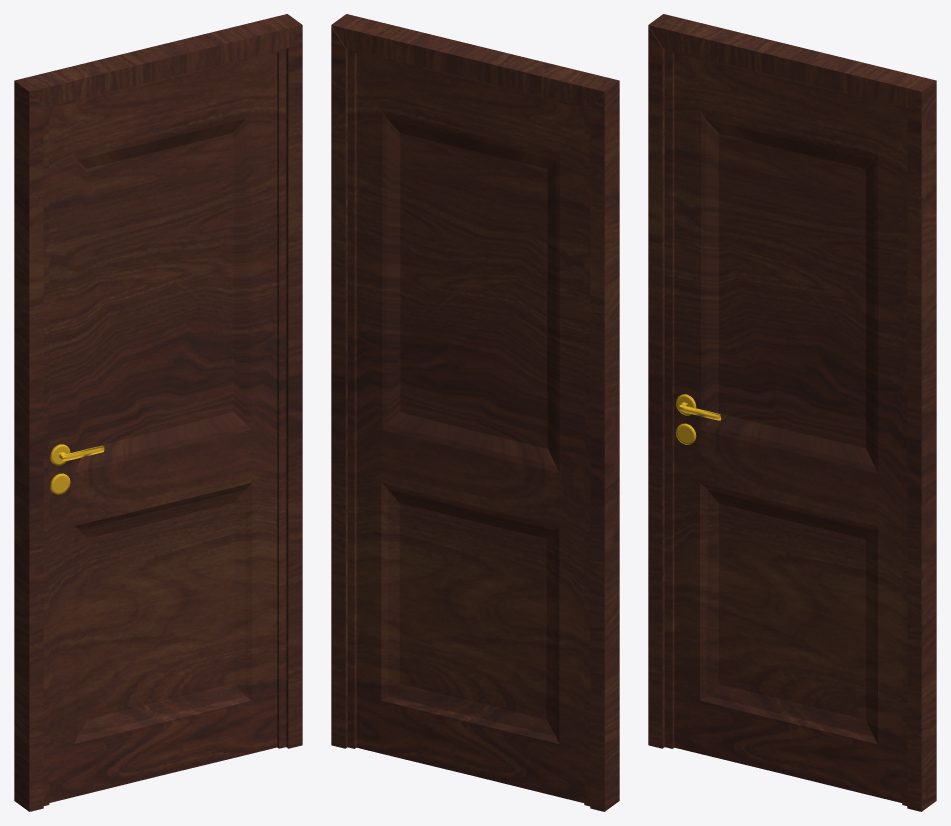
Rendered from PUERTA24_PIENZA.glb.
3 renders of one model, left to right at view 1: azimuth 30°, elevation 25°; view 2: azimuth 150°, elevation 25°; view 3: azimuth 330°, elevation 25°, orthographic.
Visible parts, largest first — view 1: Puerta24_PIENZA, Puerta24_Marco, Puerta24_Cerradura; view 2: Puerta24_PIENZA, Puerta24_Marco; view 3: Puerta24_PIENZA, Puerta24_Marco, Puerta24_Cerradura.
Part boxes in pixels (x1,y1,x2,y2): Puerta24_PIENZA: (43,49,286,805); Puerta24_Marco: (14,14,302,811); Puerta24_Cerradura: (50,444,104,494); Puerta24_PIENZA: (347,49,590,806); Puerta24_Marco: (331,14,619,811); Puerta24_PIENZA: (664,49,907,805); Puerta24_Marco: (648,14,936,811); Puerta24_Cerradura: (675,394,721,444).
Bounding box in the file's own units: 769 × 1936 × 85.
4 materials, 3 textured.
